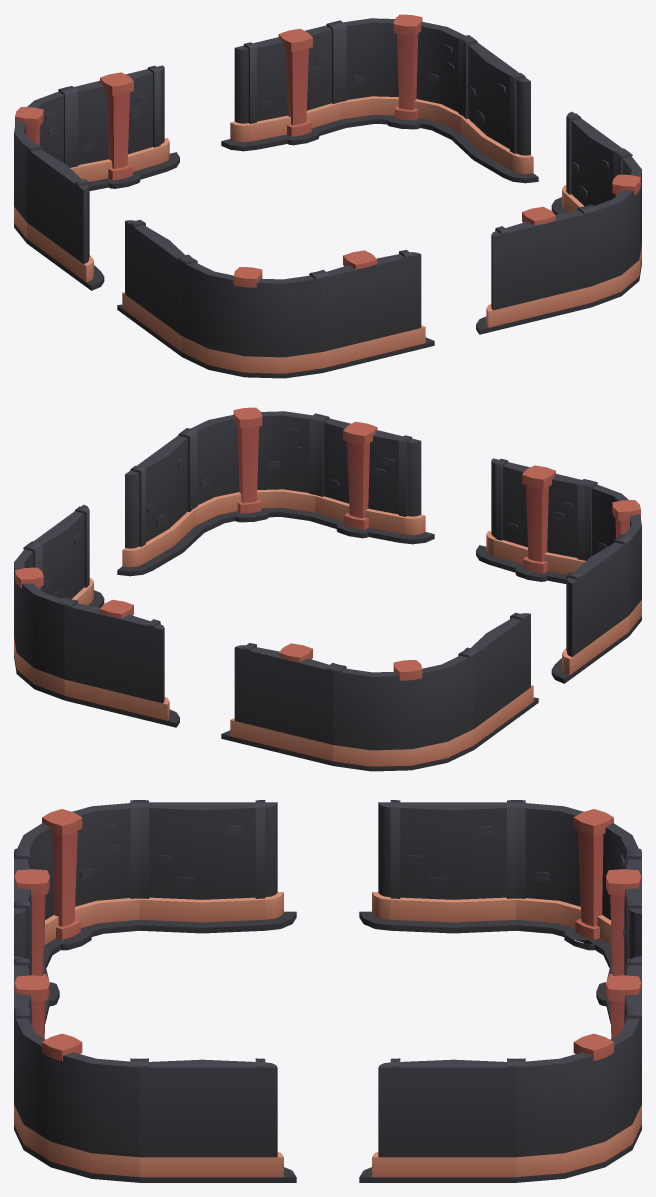
File: SecondFloor.obj
3 views of the same model, one above another, from view 1: azimuth 30°, elevation 25°; view 2: azimuth 150°, elevation 25°; view 3: azimuth 270°, elevation 25° (orthographic). The views are drawn at different scales.
Parts seen in each view (by area): view 1: room-large; view 2: room-large; view 3: room-large.
Part boxes in pixels (box(x1,y1,x2,y2)): room-large: box(14, 14, 641, 378); room-large: box(14, 407, 641, 771); room-large: box(14, 800, 641, 1182).
Bounding box in the file's own units: 20 × 4.23 × 20.
